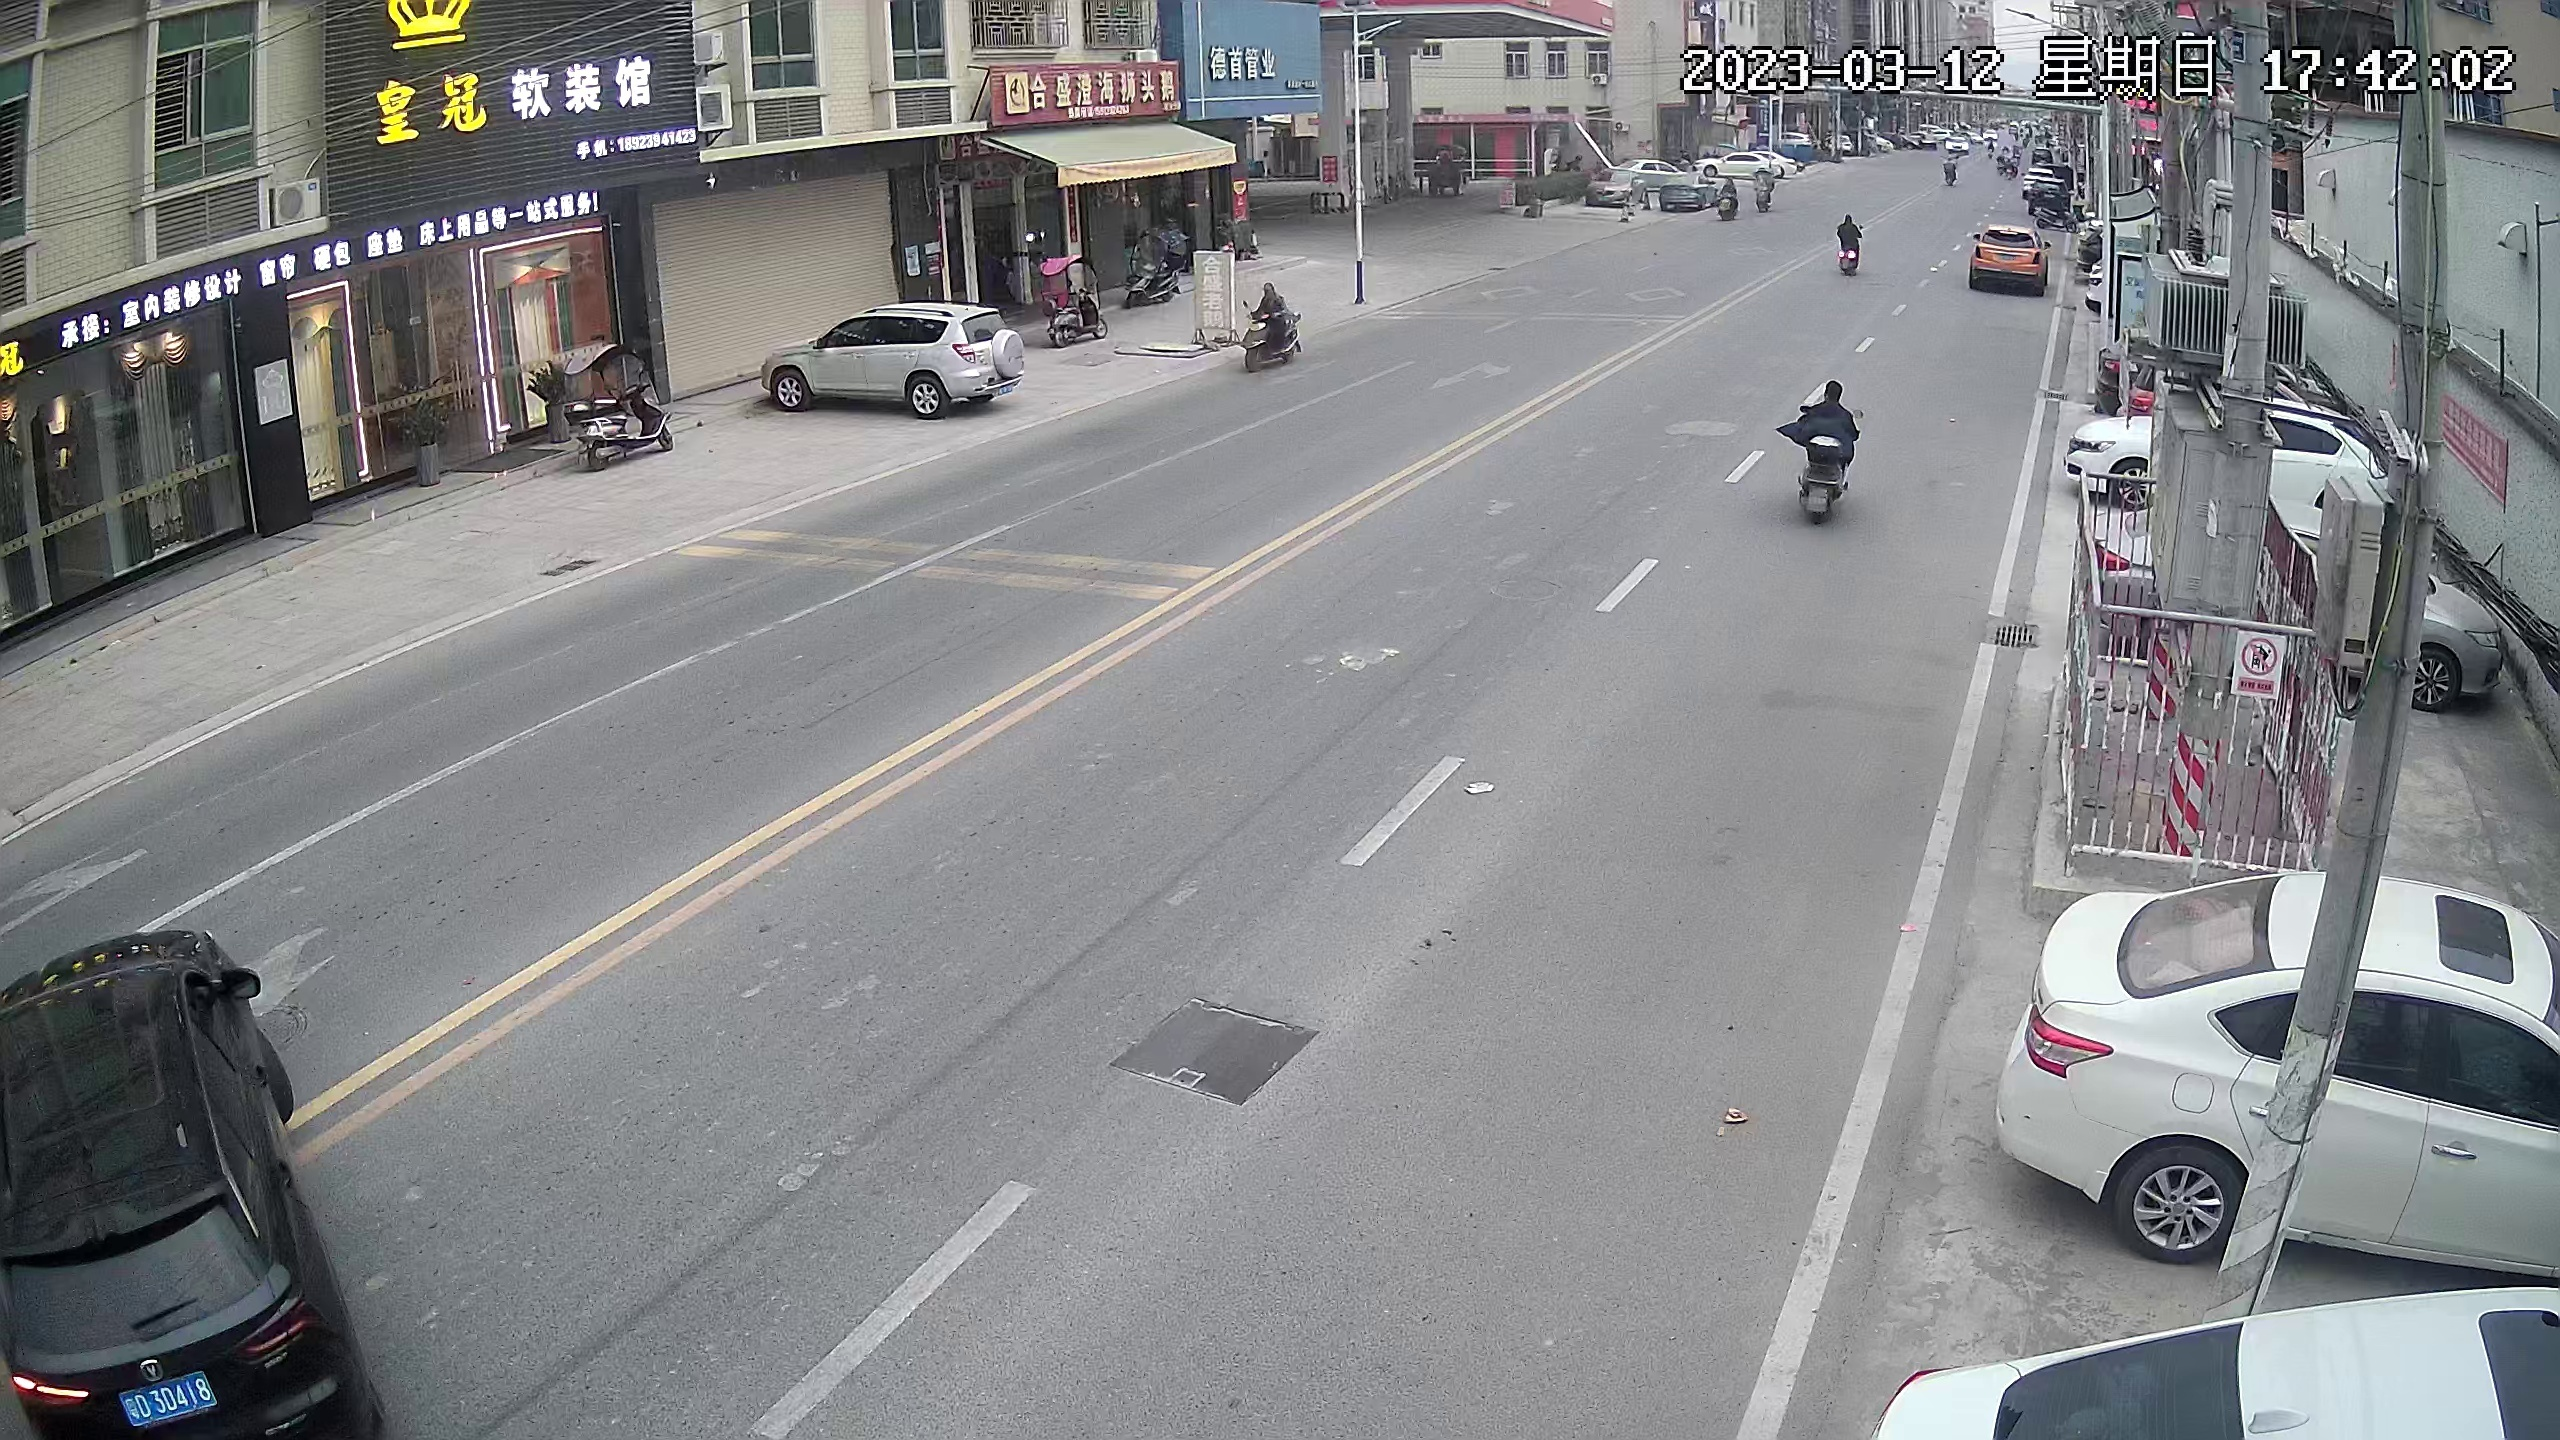motorcycle: (543, 338, 673, 469), (1783, 366, 1862, 526), (1036, 257, 1102, 359), (1243, 278, 1299, 362), (1134, 229, 1182, 313), (1836, 202, 1873, 278), (1713, 167, 1742, 223), (1753, 164, 1779, 215), (1943, 153, 1962, 188)
sedan: (2020, 876, 2558, 1299), (2, 932, 343, 1440), (1874, 1271, 2549, 1440), (2103, 524, 2483, 695), (2084, 406, 2372, 508), (1593, 165, 1642, 218), (1663, 165, 1707, 218), (2027, 172, 2068, 215), (1723, 149, 1778, 179)
suv: (765, 309, 1025, 418), (1973, 220, 2048, 302)
